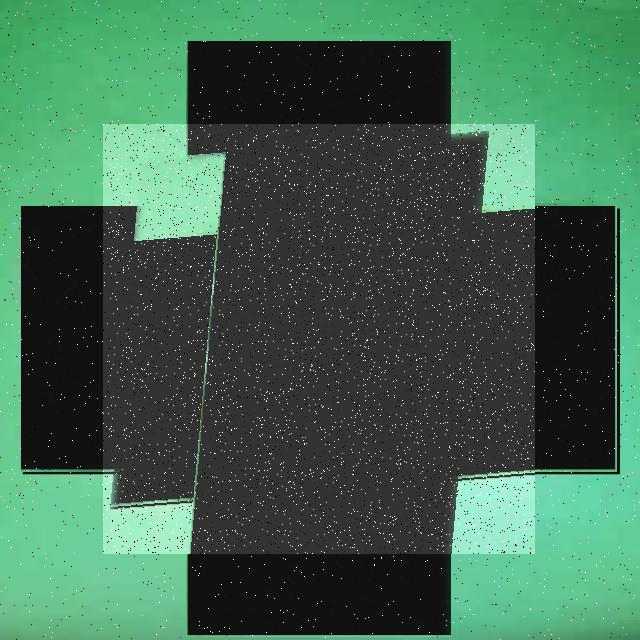lima puluh ribu rupiah: (103, 124, 535, 554)
